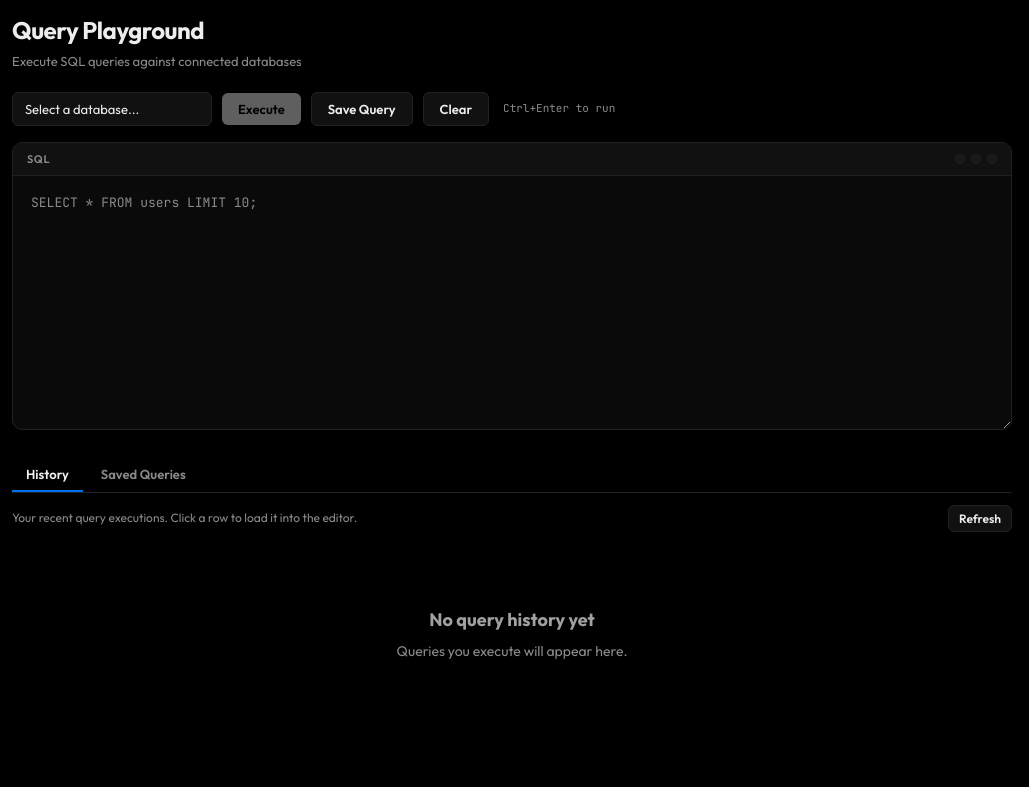
Scenario: QueryPlayground › renders query results on successful execution
Select the database
Select "test-db" in the dropdown at {"x": 112, "y": 108}, box [12,92,212,126]
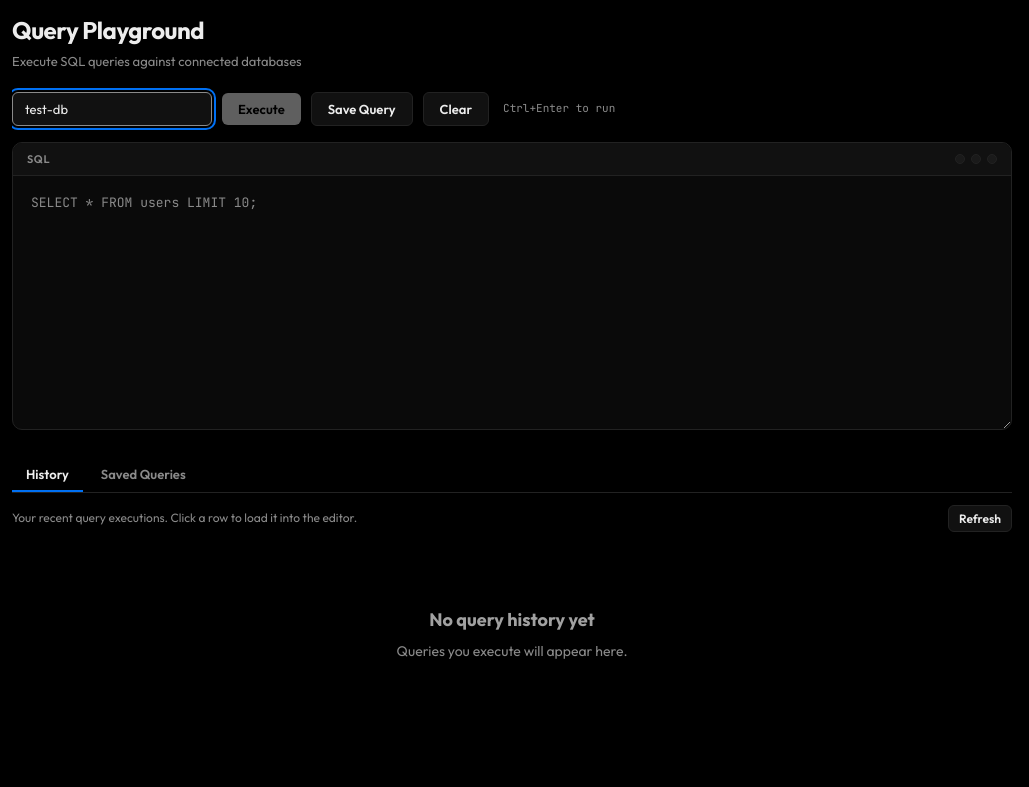
Type SQL
Type "SELECT * FROM users" into the text box named "SQL editor" at {"x": 512, "y": 302}, box [13,176,1011,429]
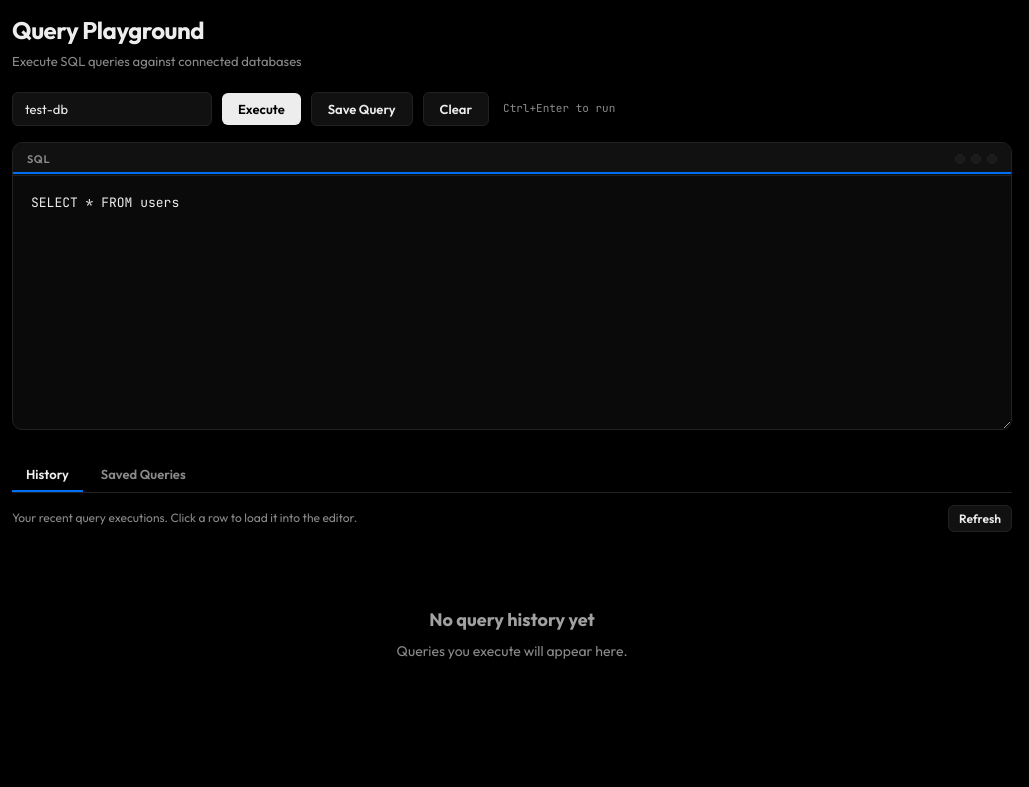
Click execute
Click the button "Execute" at {"x": 261, "y": 108}, box [222,92,301,124]
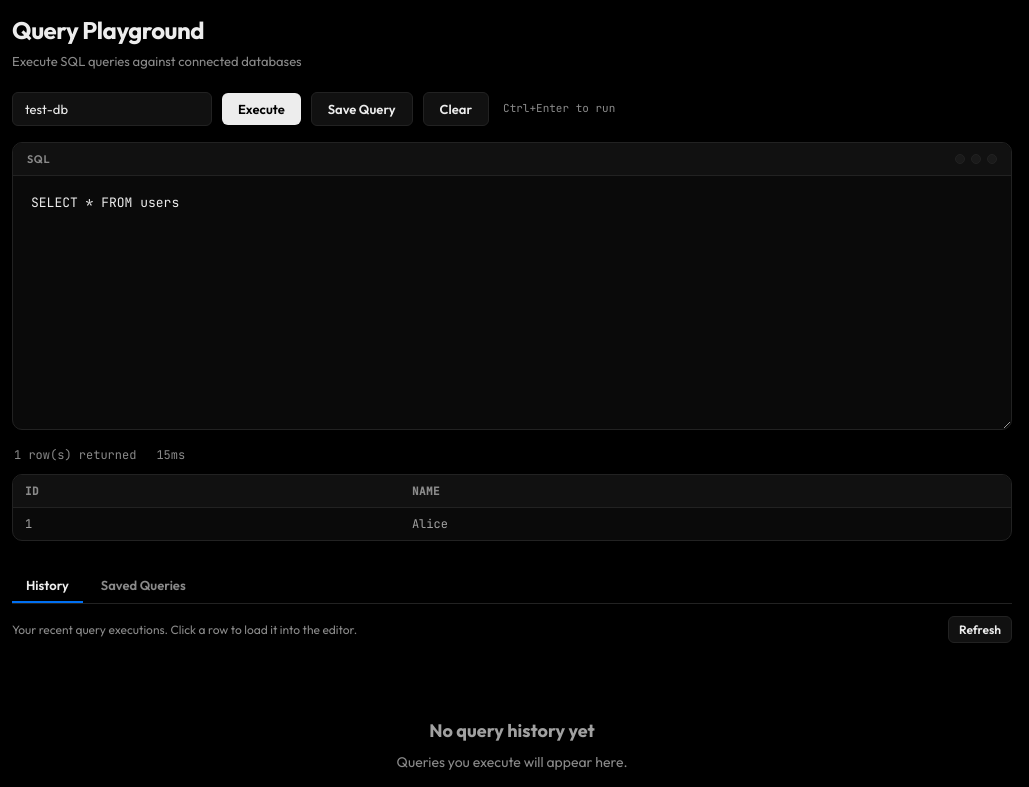
Now the text "Alice" is shown, box [400,508,1011,540]
Now the text "15ms" is shown, box [156,446,185,464]
Now the message shows "1 row(s) returned", box [14,447,136,463]
